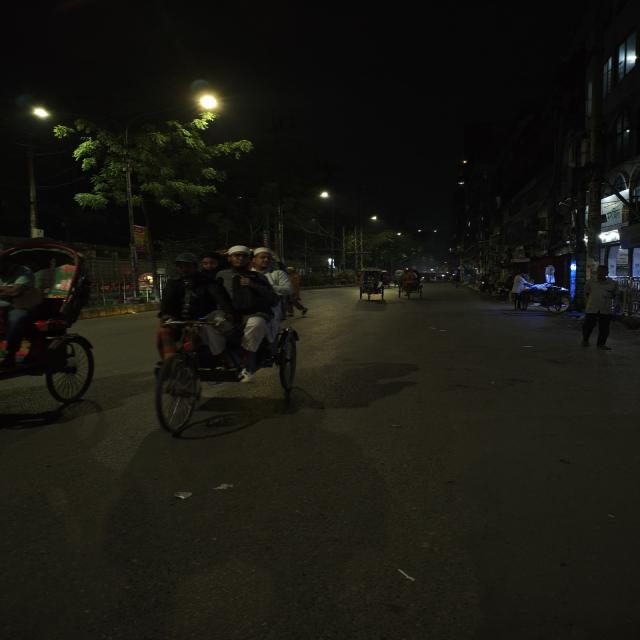pedestrian: (576, 266, 623, 350)
rickshaw: (125, 238, 330, 444), (0, 229, 107, 419), (514, 278, 571, 317), (348, 268, 392, 304), (395, 268, 427, 300)
